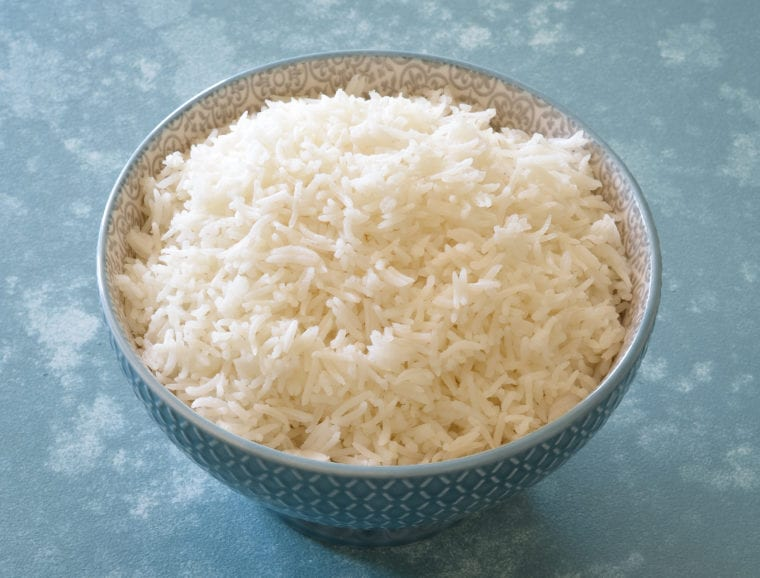rice: (161, 109, 538, 423)
